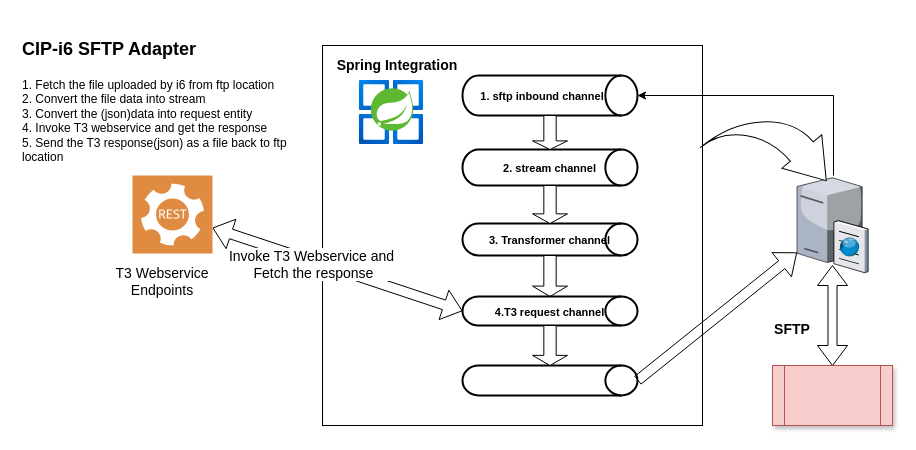
Image size: 916x450. Some labels were removed from this diagram. The centre of each missing label's shape, as x and y in pixels:
"5. T3 response channel" goes at (549,380).
"i6 Platform" goes at (833,396).
